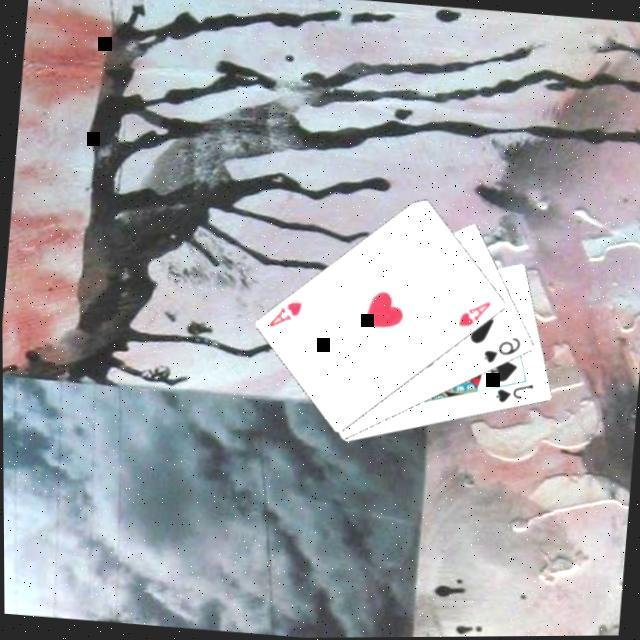6S: (477, 330, 522, 368)
AH: (262, 294, 304, 332), (452, 295, 492, 331)
JS: (489, 378, 534, 408)
